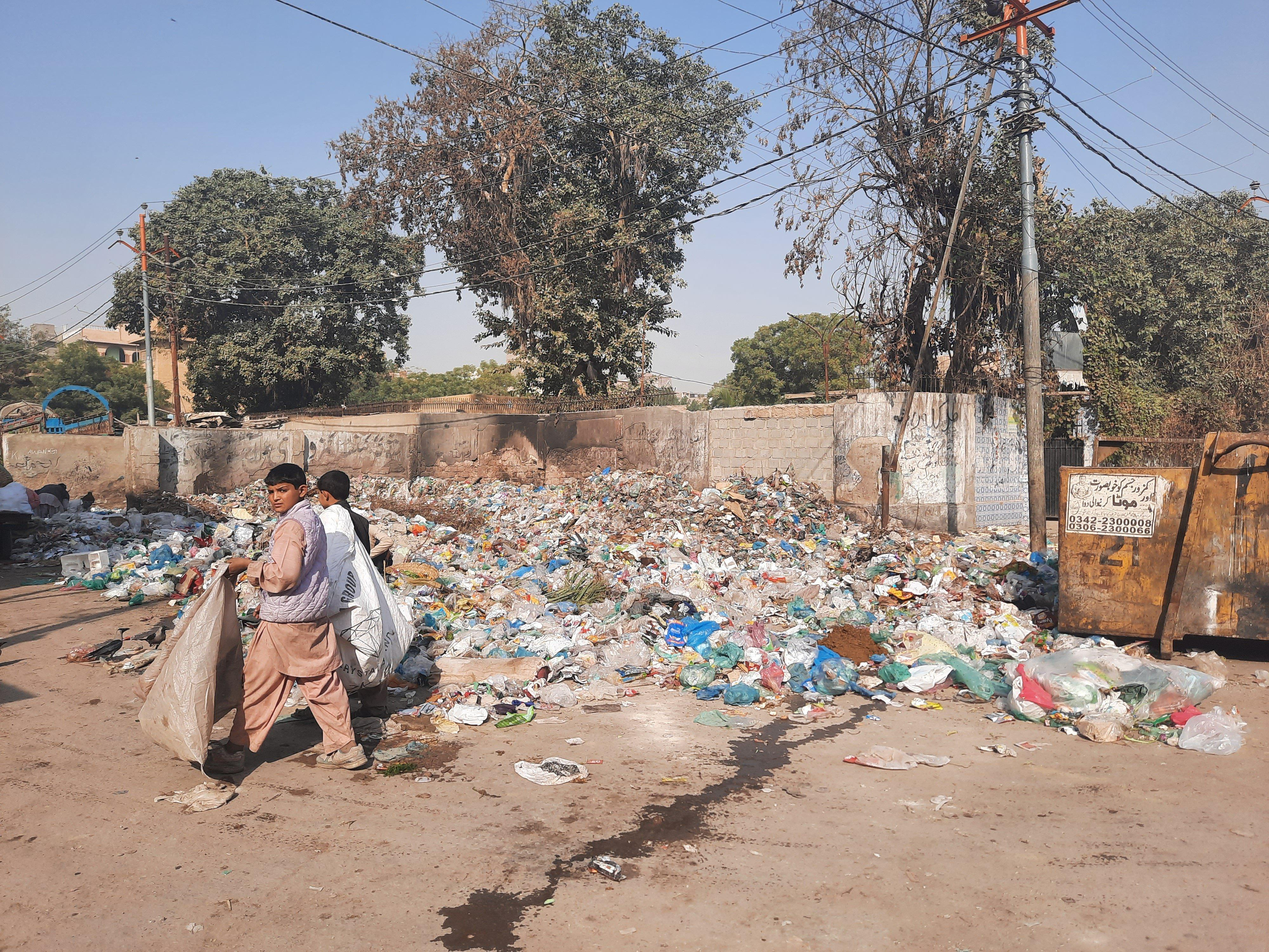garbage: (355, 465, 1173, 739), (43, 476, 256, 627)
